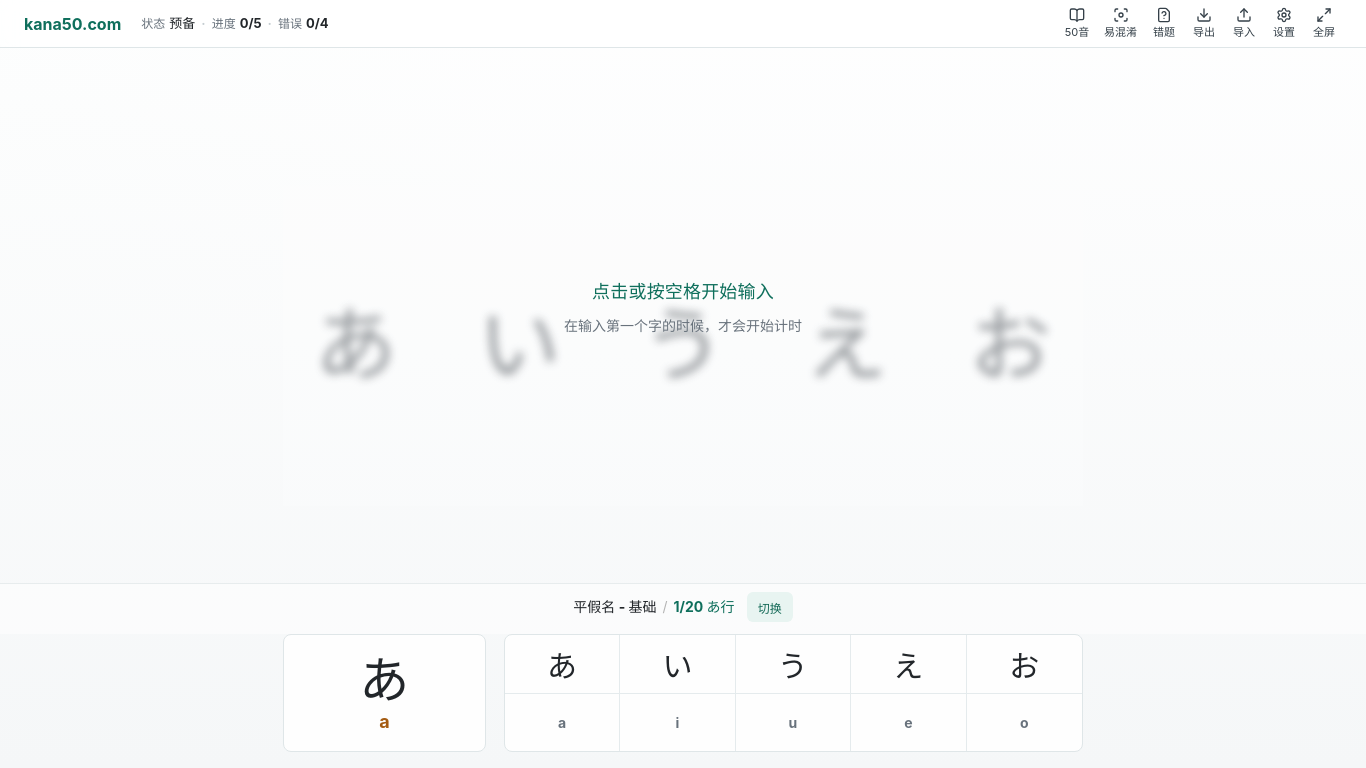
Test: practice page › clicking the main practice stage starts practice
Expected: the text "预备" is shown, [169,16,195,31]
What coordinates should you click on to do the following:
click the element named "打字练习"
I would click on:
 (683, 408)
Its box is [0,48,1365,767].
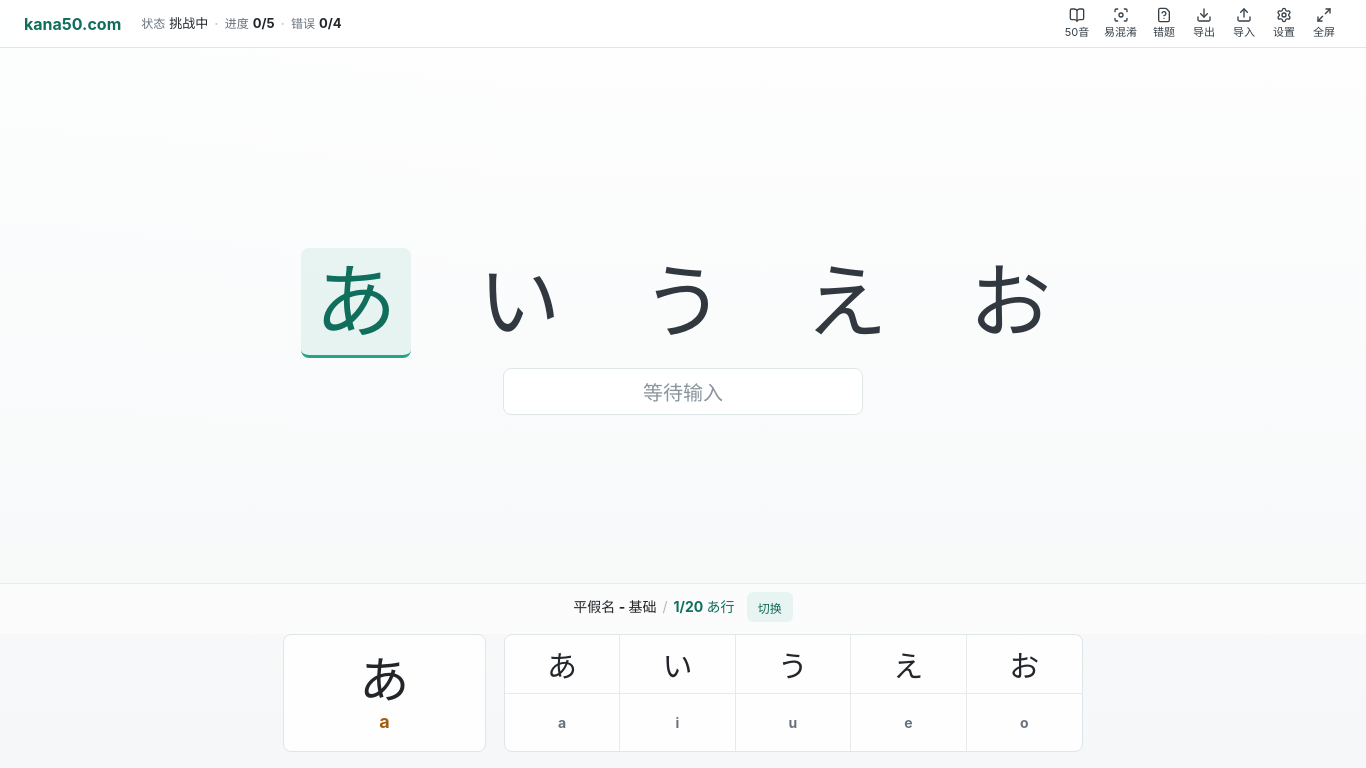
Expected: the text "挑战中" is shown, [169,16,208,31]
Expected: the text named "当前假名 あ" is shown, [301,248,411,358]
